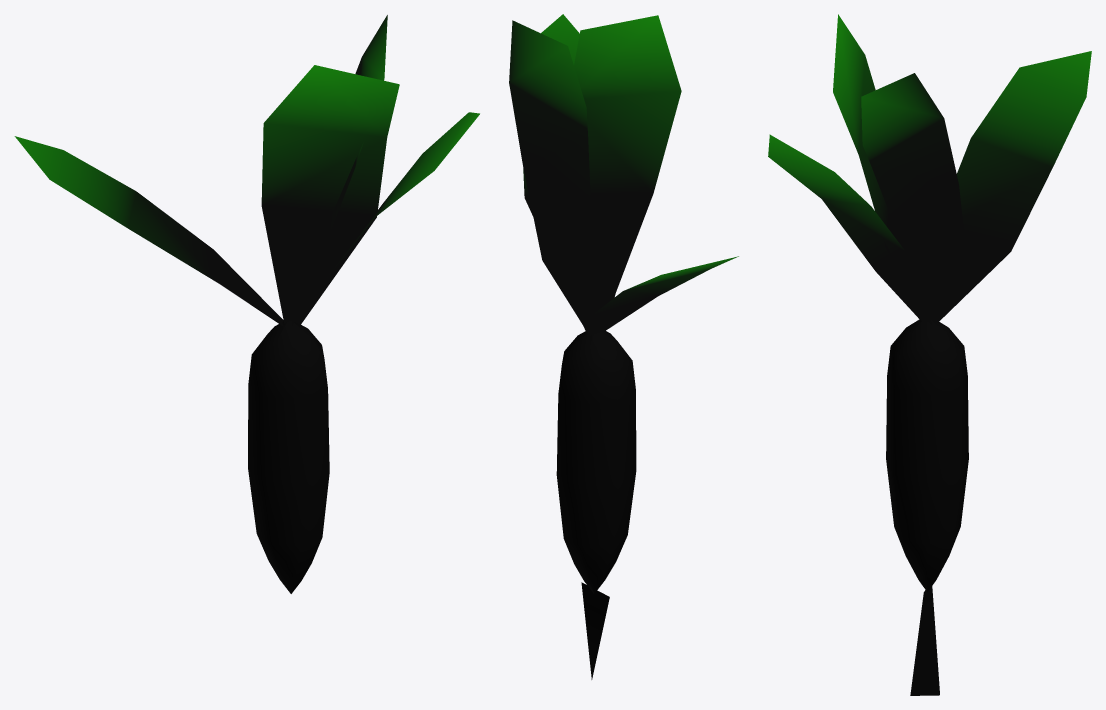
File: Radish_6.fbx
The picture shows the model from 3 angles, left to right: view 1: azimuth 30°, elevation 25°; view 2: azimuth 150°, elevation 25°; view 3: azimuth 270°, elevation 25°; orthographic projection. The views are drawn at different scales.
Visible parts, largest first — view 1: Radish_6; view 2: Radish_6; view 3: Radish_6.
Boxes of the visible parts, <box> form: Radish_6: <box>14,15,479,593</box>; Radish_6: <box>509,14,738,679</box>; Radish_6: <box>768,14,1091,695</box>.
Size of the model in its own units: 21.23 by 41.43 by 18.17.
